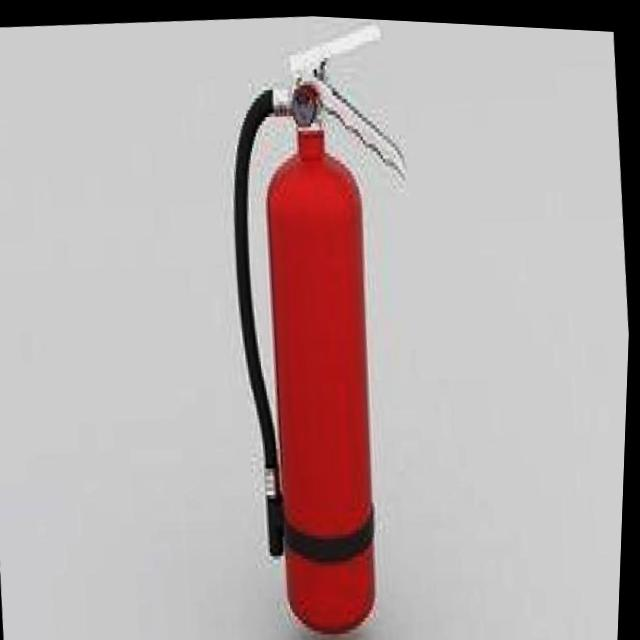FireExtinguisher: (196, 9, 453, 640)
